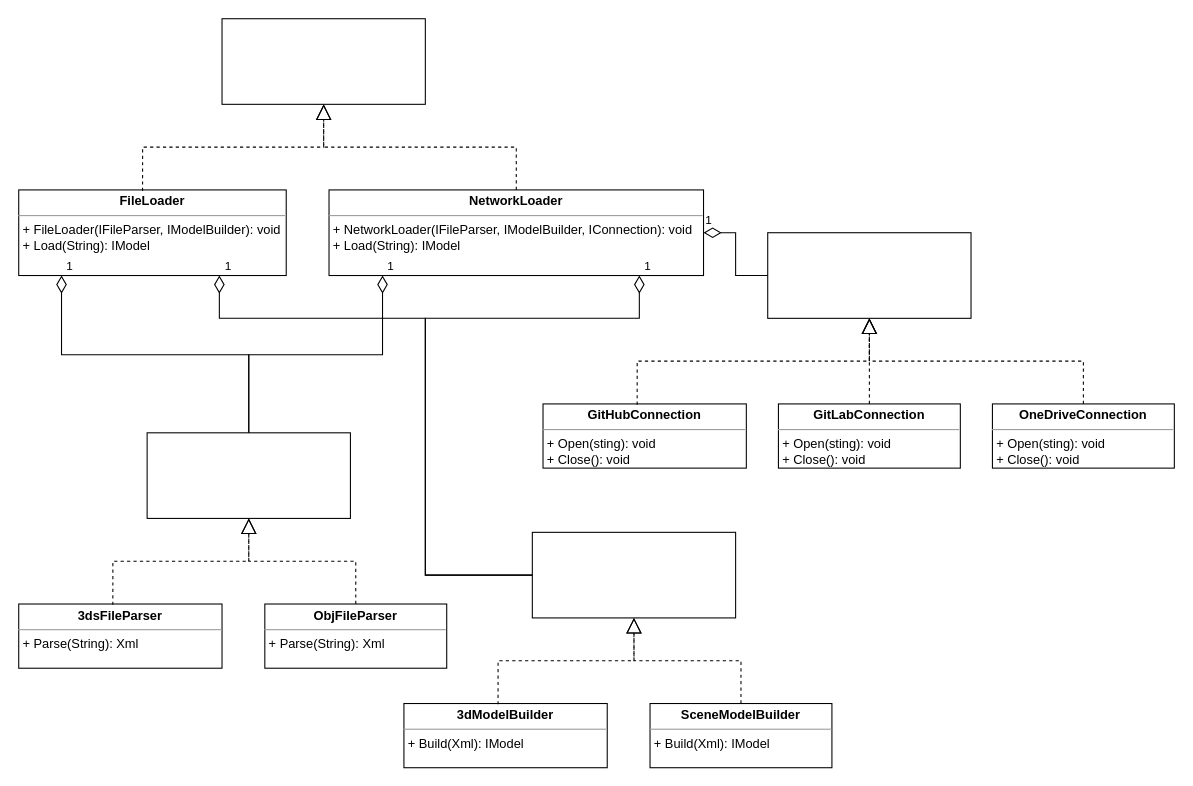
This 1193x786 diagram has some shape labels left out. The box of each missing label's shape, as (x1, y1, x2, y2) in pixels:
<<Interface>> IConnection + Open(sting): void + Close(): void: (767, 232, 971, 318)
<<Interface>> IFileParser + Parse(String): Xml: (146, 432, 350, 518)
<<Interface>> ILoader + Load(String): IModel: (221, 18, 425, 104)
<<Interface>> IModelBuilder + Build(Xml): IModel: (531, 531, 736, 618)
